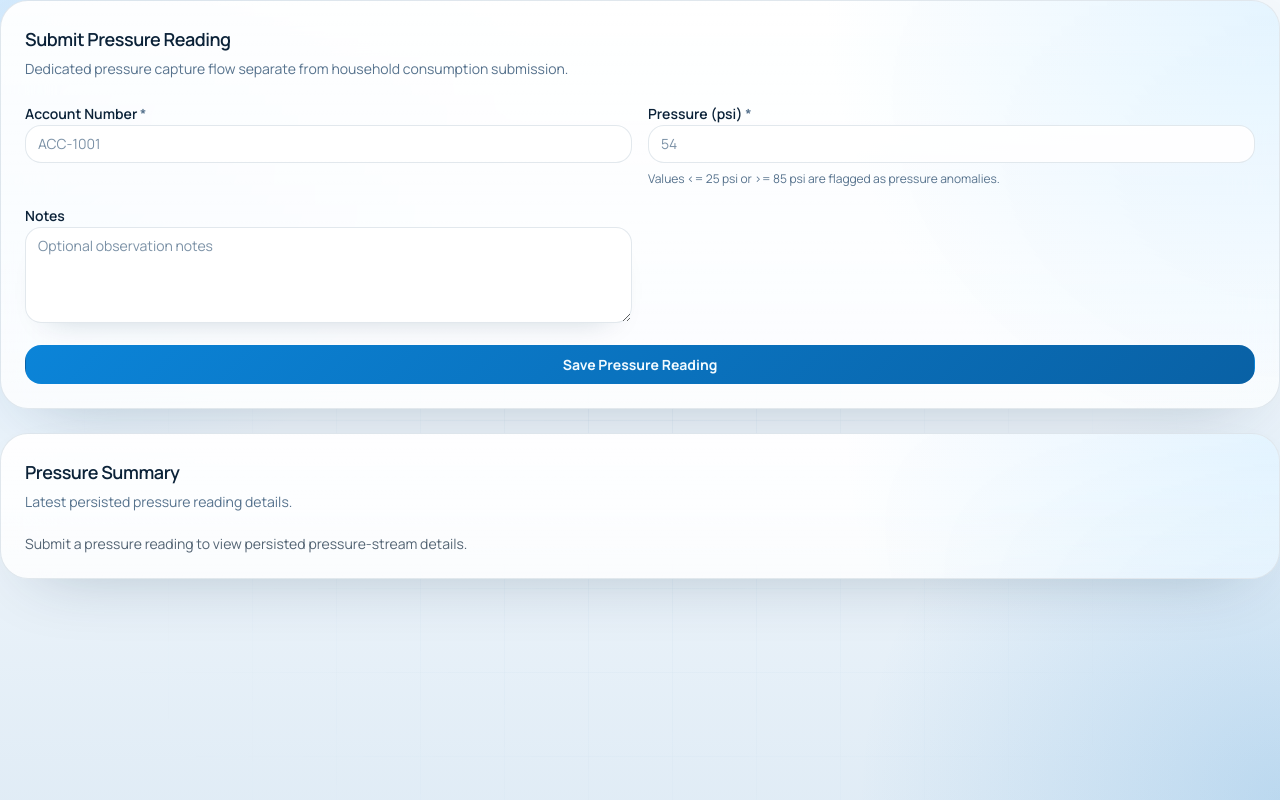
Scenario: SubmitPressureClient › validates pressure and submits pressure stream payload
Type "acc-3003" into the field labelled "Account Number *" at coordinates (328, 144), box [25,125,632,163]
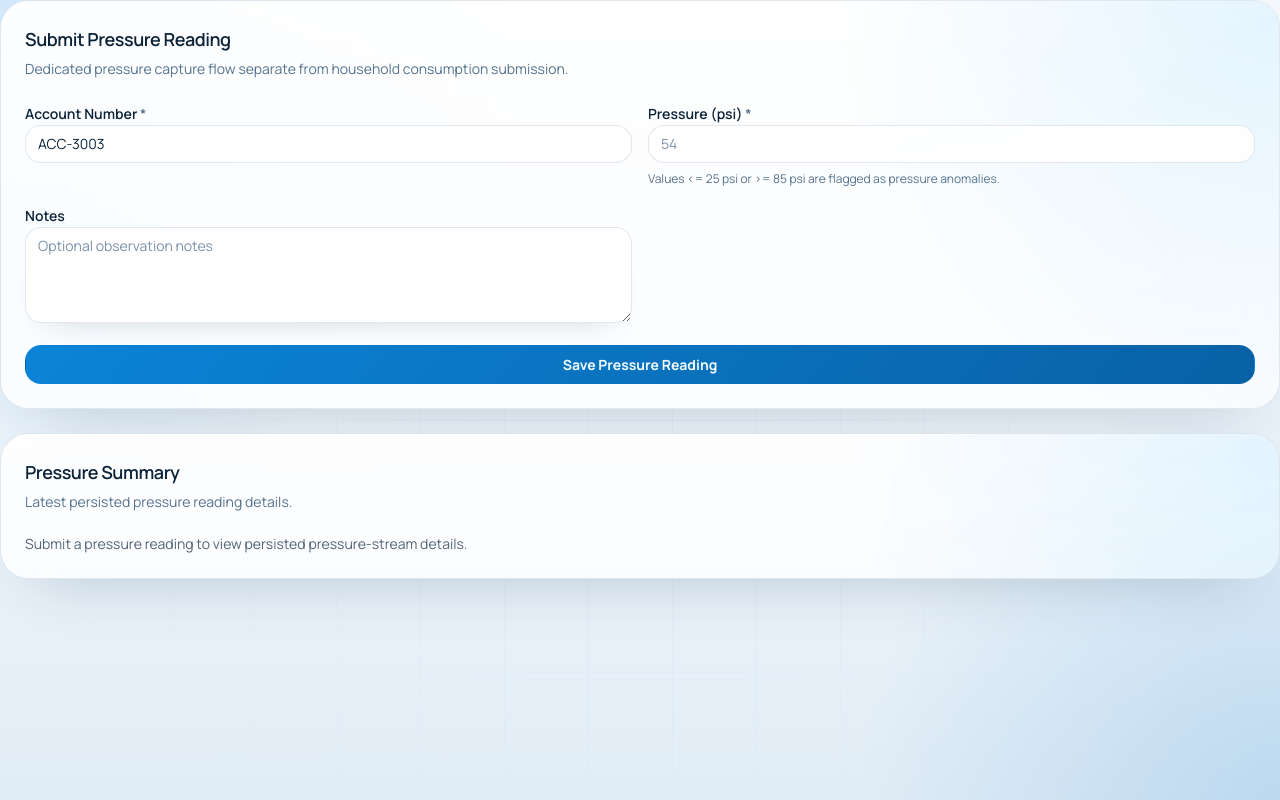
Type "-1" into the field labelled "Pressure (psi) *" at coordinates (952, 144), box [648,125,1255,163]
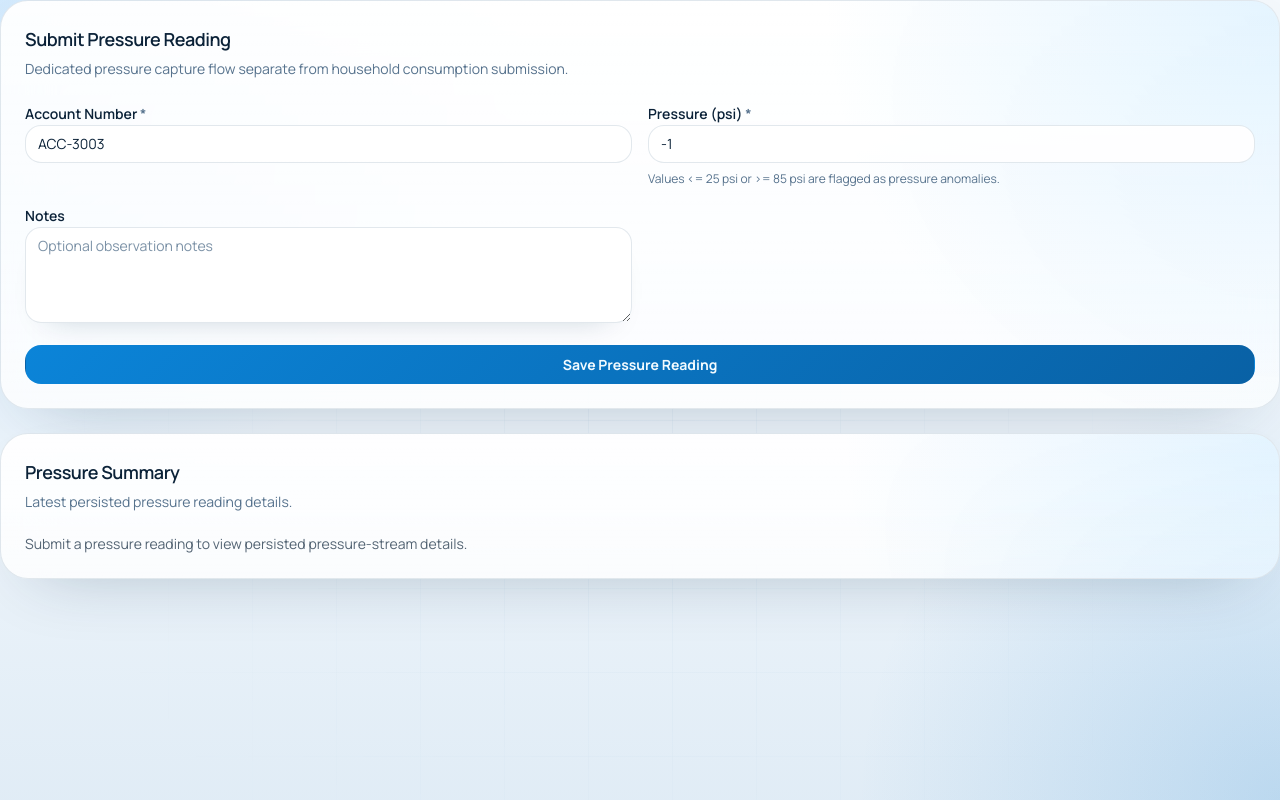
Click the button "Save Pressure Reading" at coordinates (640, 364), box [25,345,1255,384]
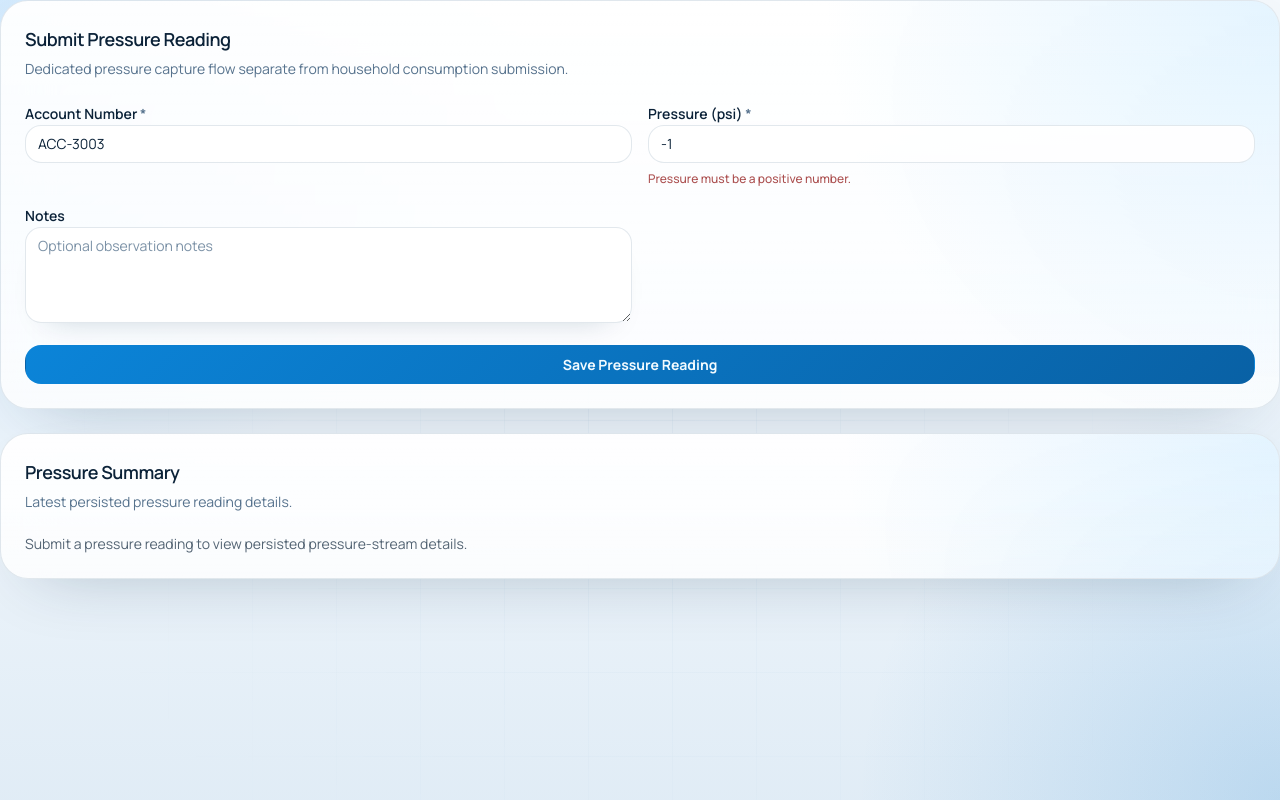
Now the text "Pressure must be a positive number." is shown, box [648,170,851,187]
Replace the text in the field labelled "Pressure (psi) *" with "62" at coordinates (952, 144), box [648,125,1255,163]
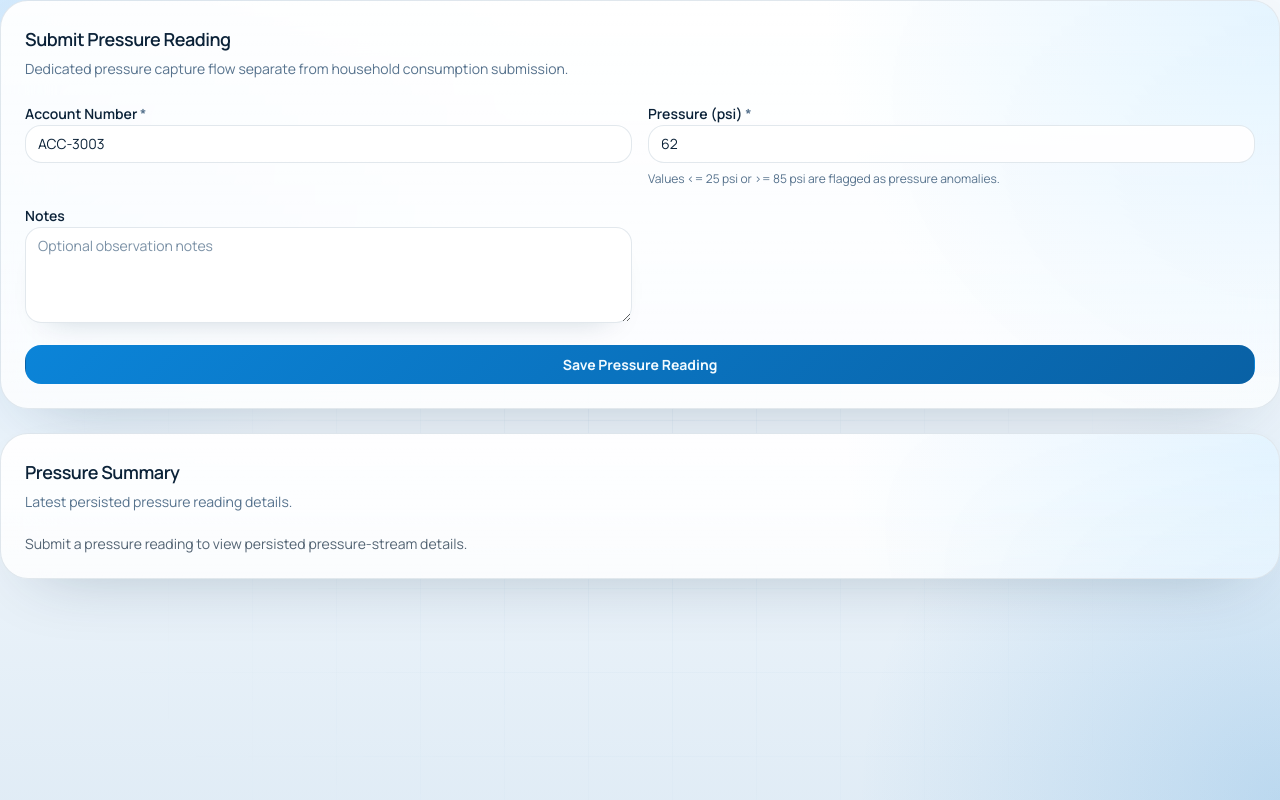
Type "normal" into the text box labelled "Notes" at coordinates (328, 275), box [25,227,632,323]
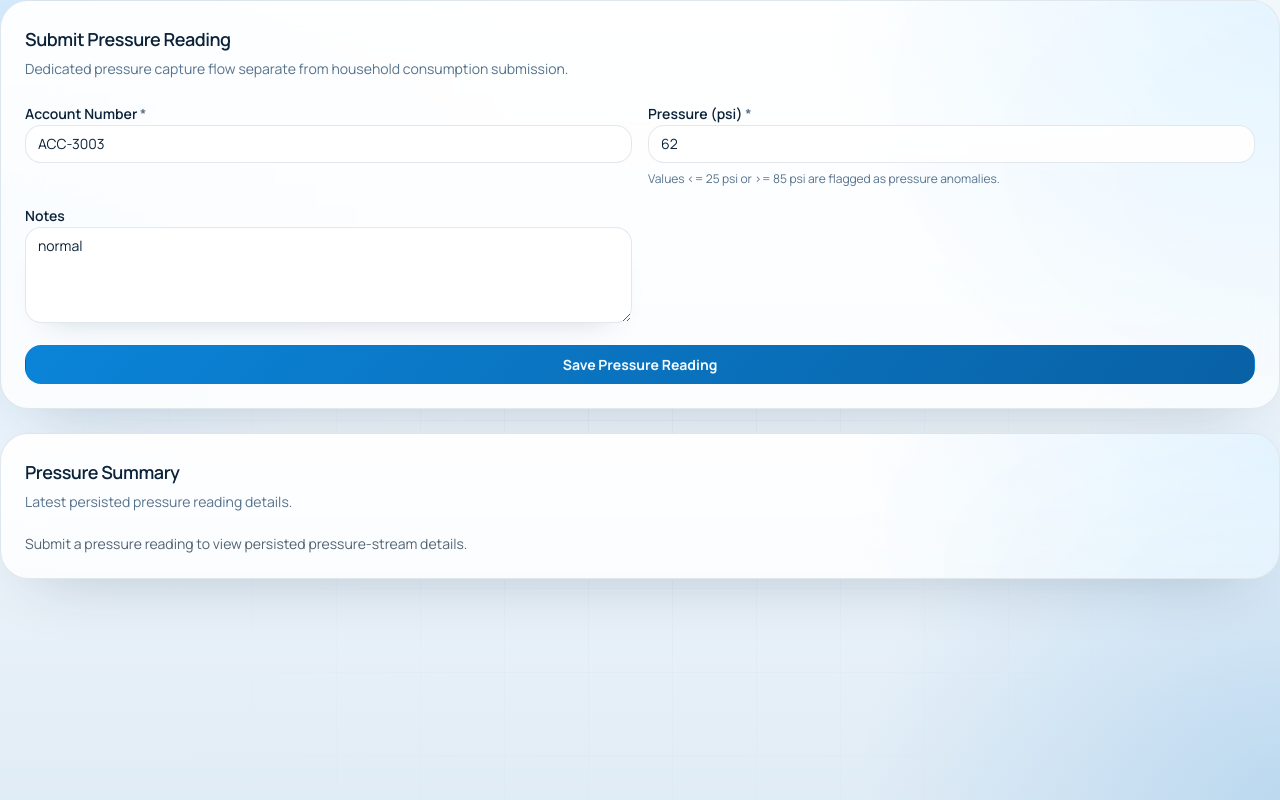
Click the button "Save Pressure Reading" at coordinates (640, 364), box [25,345,1255,384]
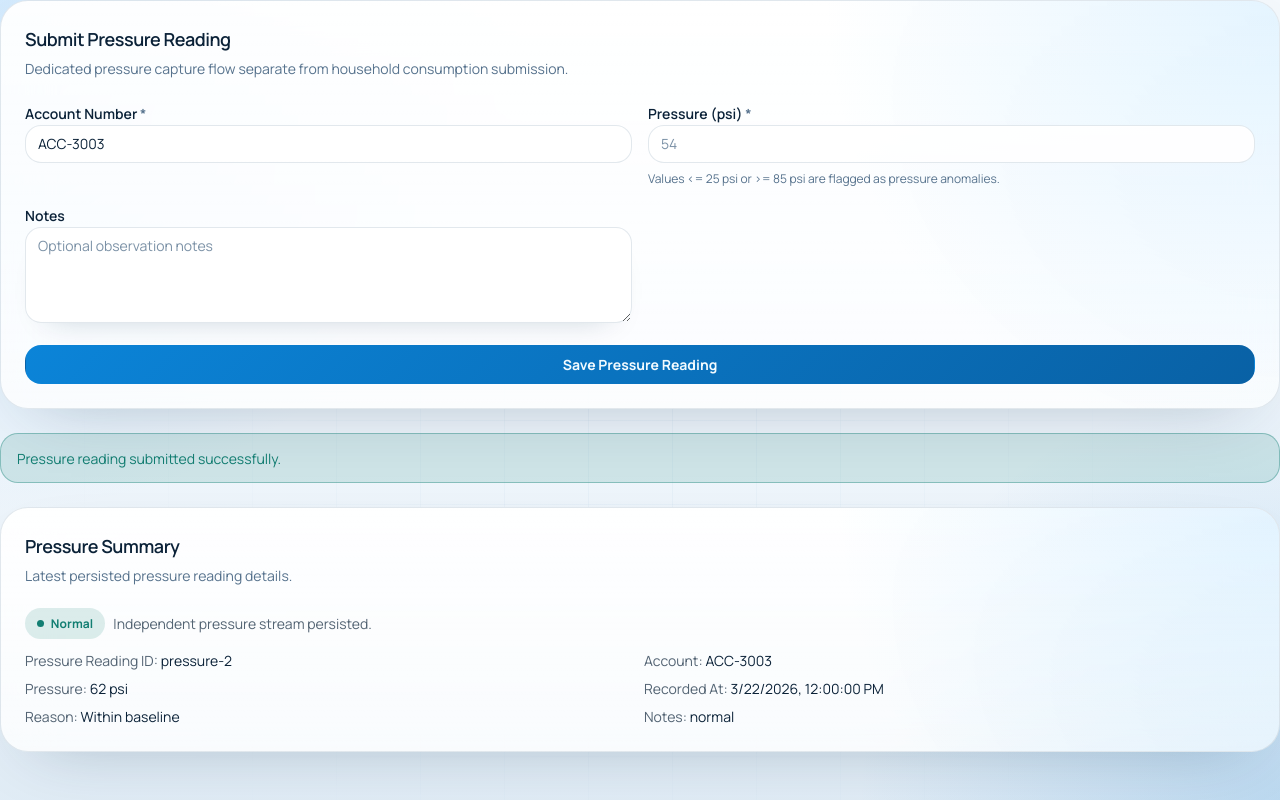
Now the text "Pressure reading submitted successfully." is shown, box [0,433,1279,483]
